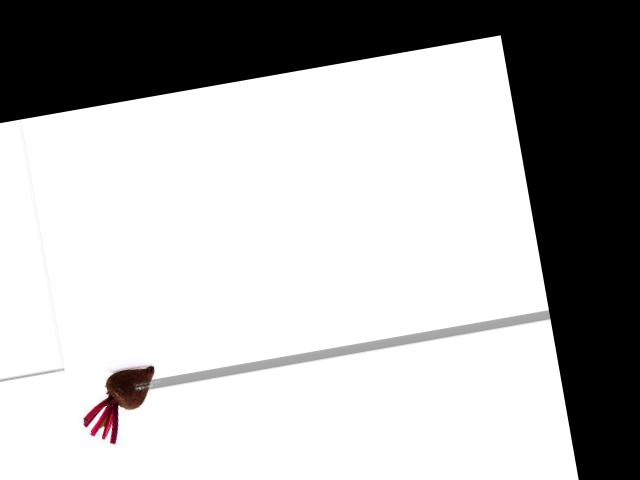beet: (76, 365, 166, 448)
